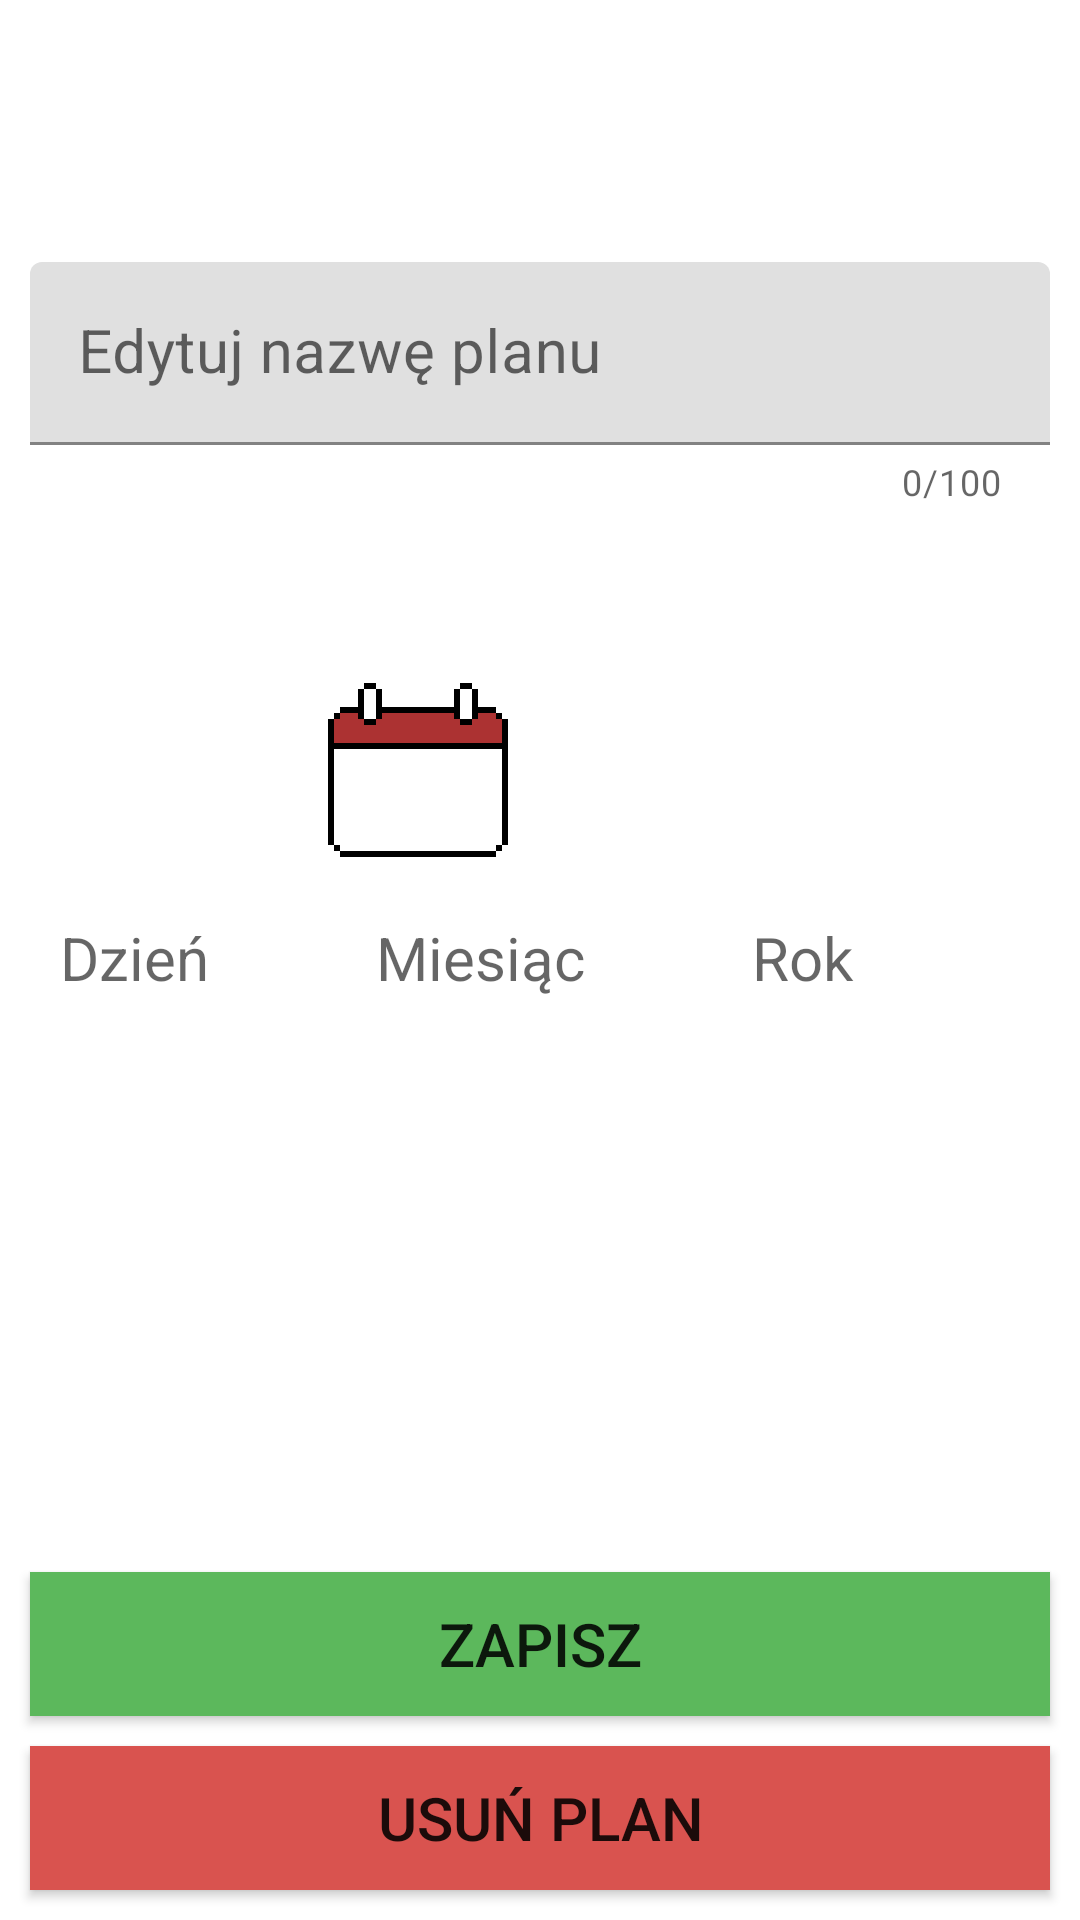

Locate icon controls on the screen. Image size 1080x1920, boxes as bbox=(x1, y1, x2, y2).
kalendarz: bbox=(328, 683, 508, 857)
